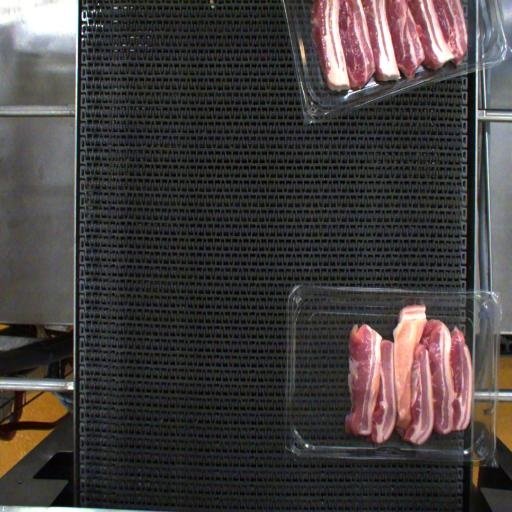twisted-meat: (396, 296, 428, 438)
